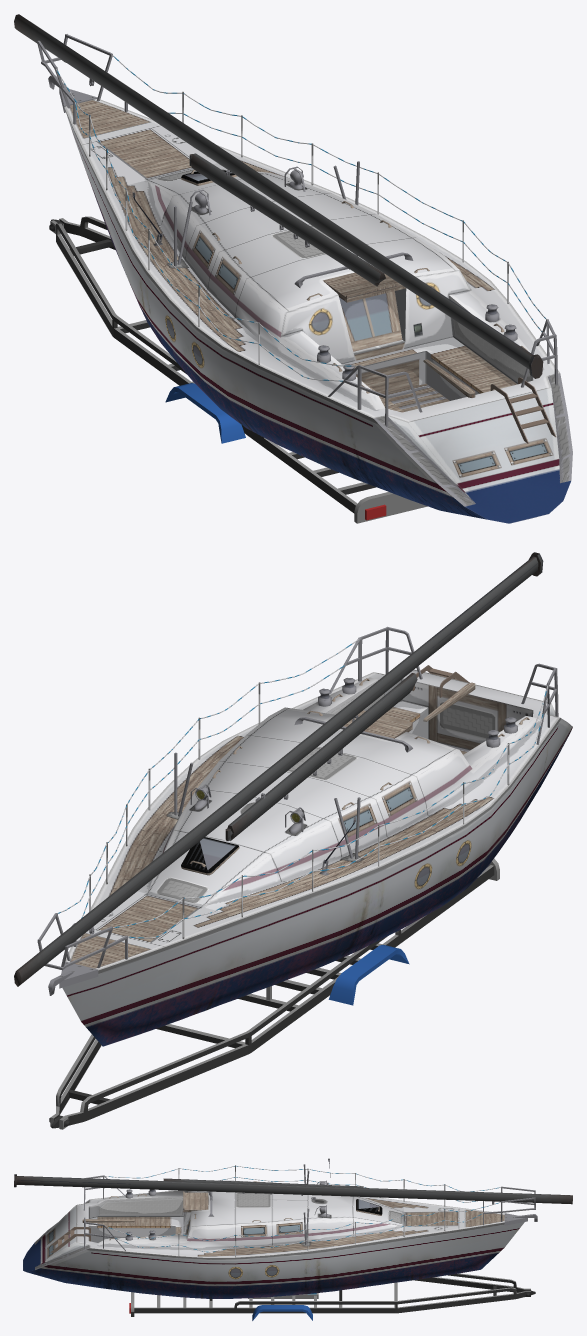
File: TrailerWithBoatSailingYacht.fbx
3 views of the same model, one above another, from view 1: azimuth 30°, elevation 25°; view 2: azimuth 150°, elevation 25°; view 3: azimuth 270°, elevation 25° (orthographic). The views are drawn at different scales.
Parts seen in each view (by area): view 1: trailer_1; view 2: trailer_1; view 3: trailer_1.
Part boxes in pixels (left/top/right/bottom): trailer_1: left=14, top=14, right=572, bottom=523; trailer_1: left=14, top=552, right=572, bottom=1129; trailer_1: left=14, top=1158, right=572, bottom=1320.
Bounding box in the file's own units: 384 × 312 × 1284.
